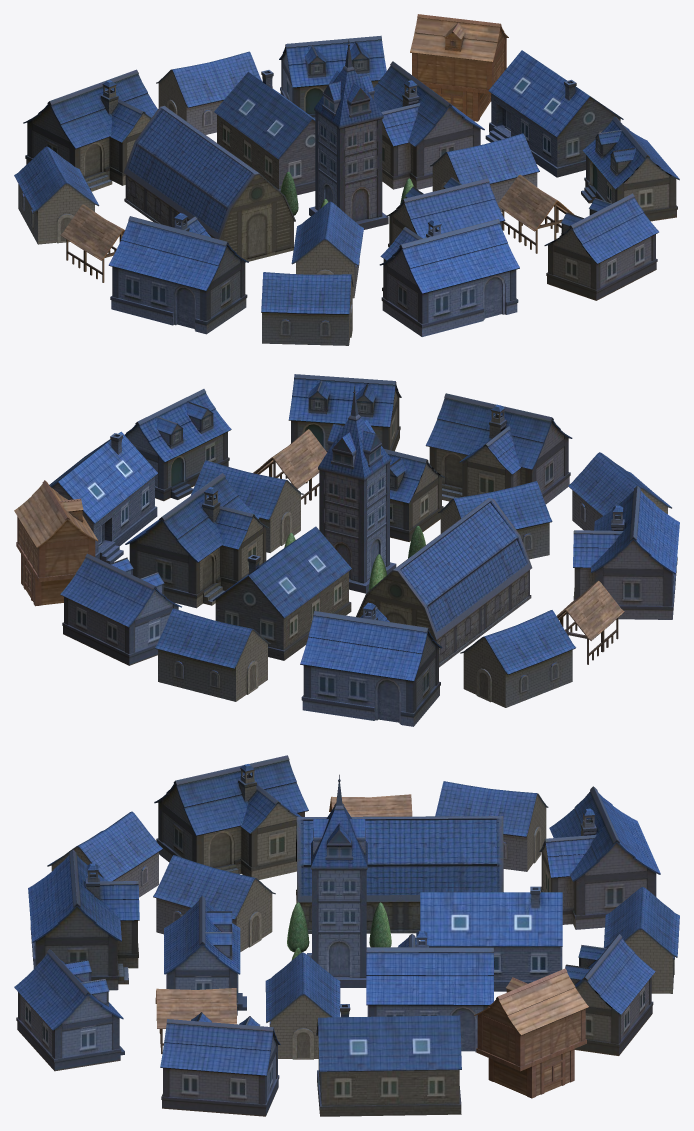
File: city_european_2.glb
The picture shows the model from 3 angles, top to bottom: view 1: azimuth 30°, elevation 25°; view 2: azimuth 150°, elevation 25°; view 3: azimuth 270°, elevation 25°; orthographic projection. The views are drawn at different scales.
Visible parts, largest first — view 1: 0001_low.005; view 2: 0001_low.005; view 3: 0001_low.005.
Boxes of the visible parts, x1,y1,x2,y2 form: 0001_low.005: (14,14,679,345); 0001_low.005: (14,374,679,726); 0001_low.005: (14,755,679,1116).
Bounding box in the file's own units: 17.47 × 5.62 × 16.87.
Materials: 5 (5 with a texture image).
